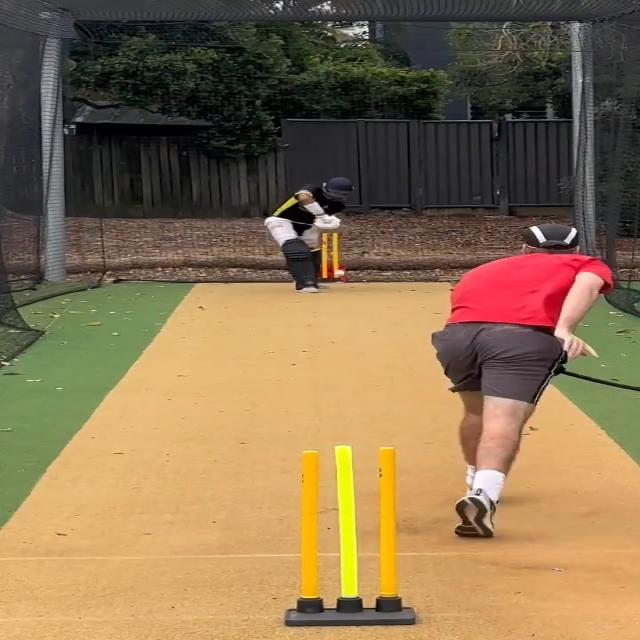ball: (334, 270, 345, 277)
stump: (286, 444, 415, 627)
